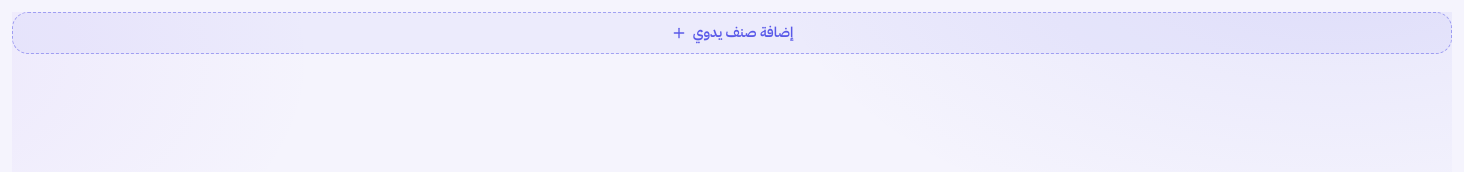
it: the manual cart line › shows the running line total before it is committed
Click the button "إضافة صنف يدوي" at point(732, 33), box [12,12,1452,54]
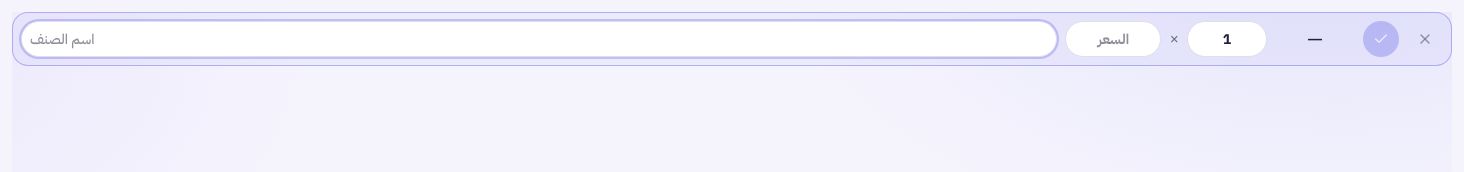
Type "بضاعة" into the field labelled "اسم الصنف" at point(539, 39), box [21,21,1057,57]
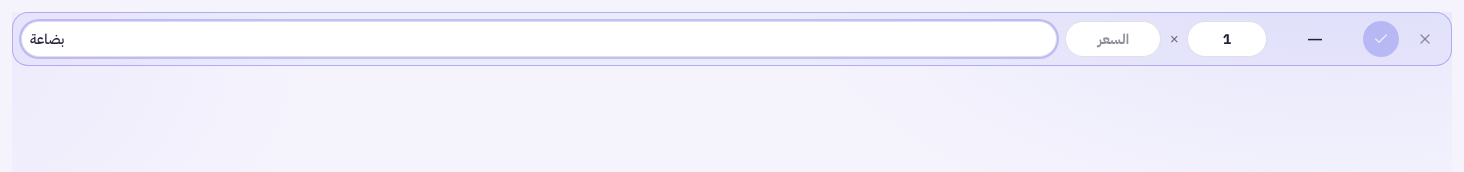
Type "7.5" into the field labelled "السعر" at point(1113, 39), box [1065,21,1161,57]
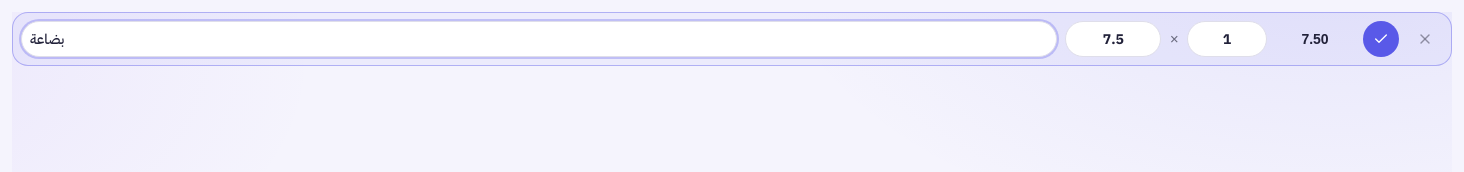
Replace the text in the field named "الكمية" with "4" at point(1227, 39), box [1187,21,1267,57]
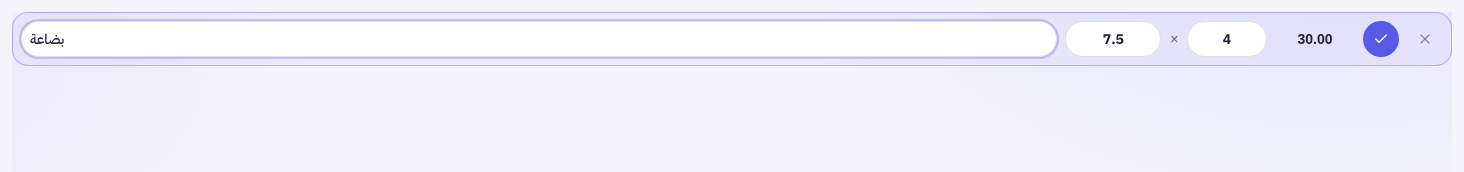
Expected: the text "30.00" is shown, [1298,31,1332,47]
